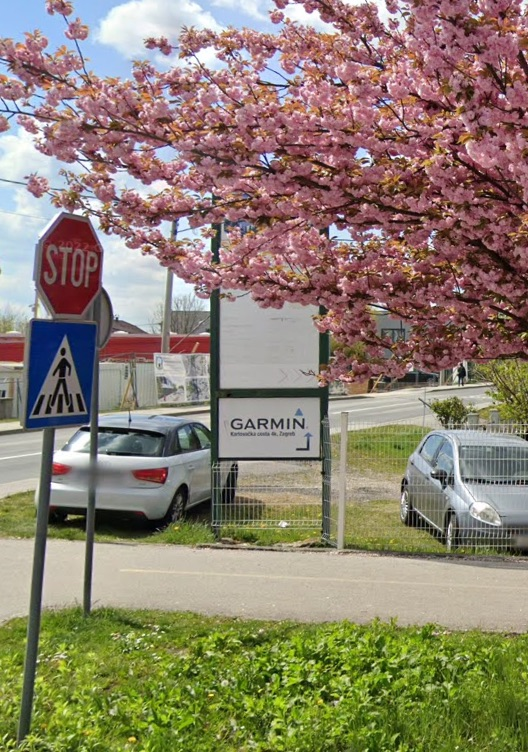Obavezno zaustavljanje: (36, 211, 104, 319)
Pješački prijelaz: (22, 317, 97, 427)
